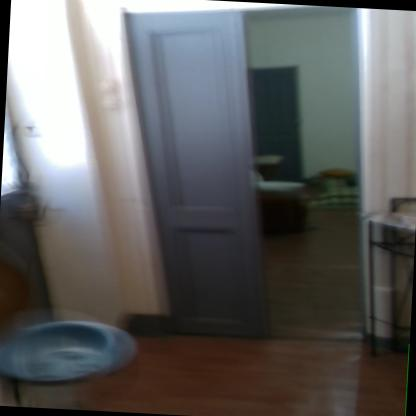open: (92, 0, 382, 358)
